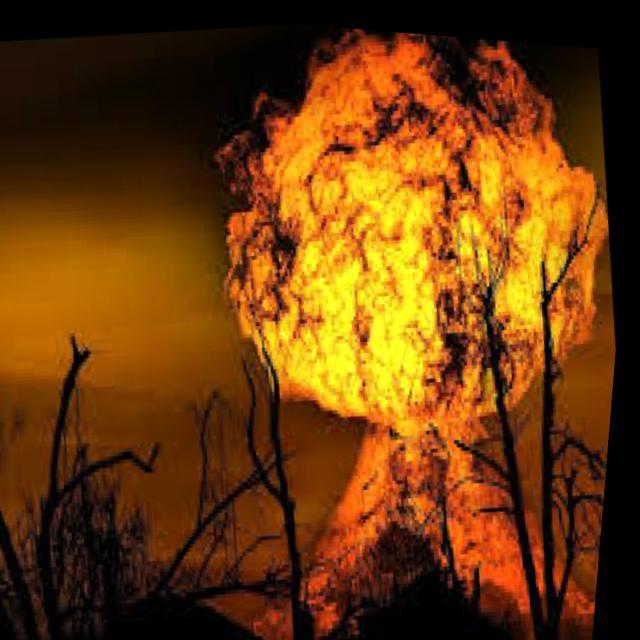fire: (171, 31, 639, 619)
